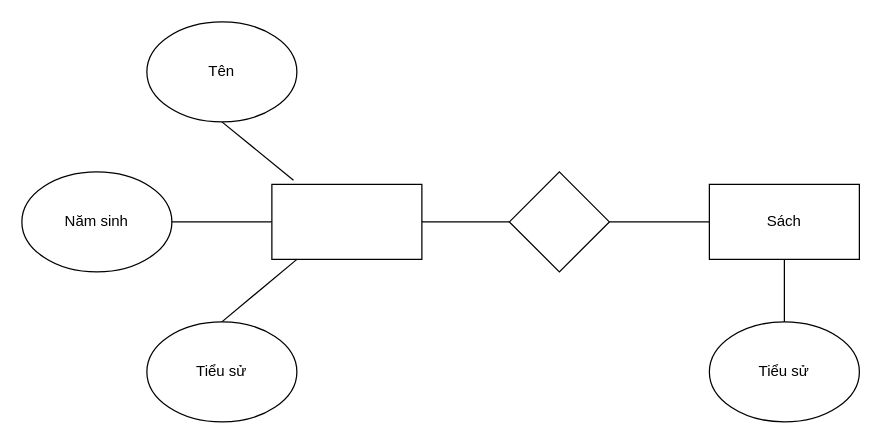
The diagram is 881 pixels wide and 444 high, and some of its shapes have lost their labels. Each missing label, with the centre of its shape:
Tác giả: the point at 346,221
viết: the point at 558,221
